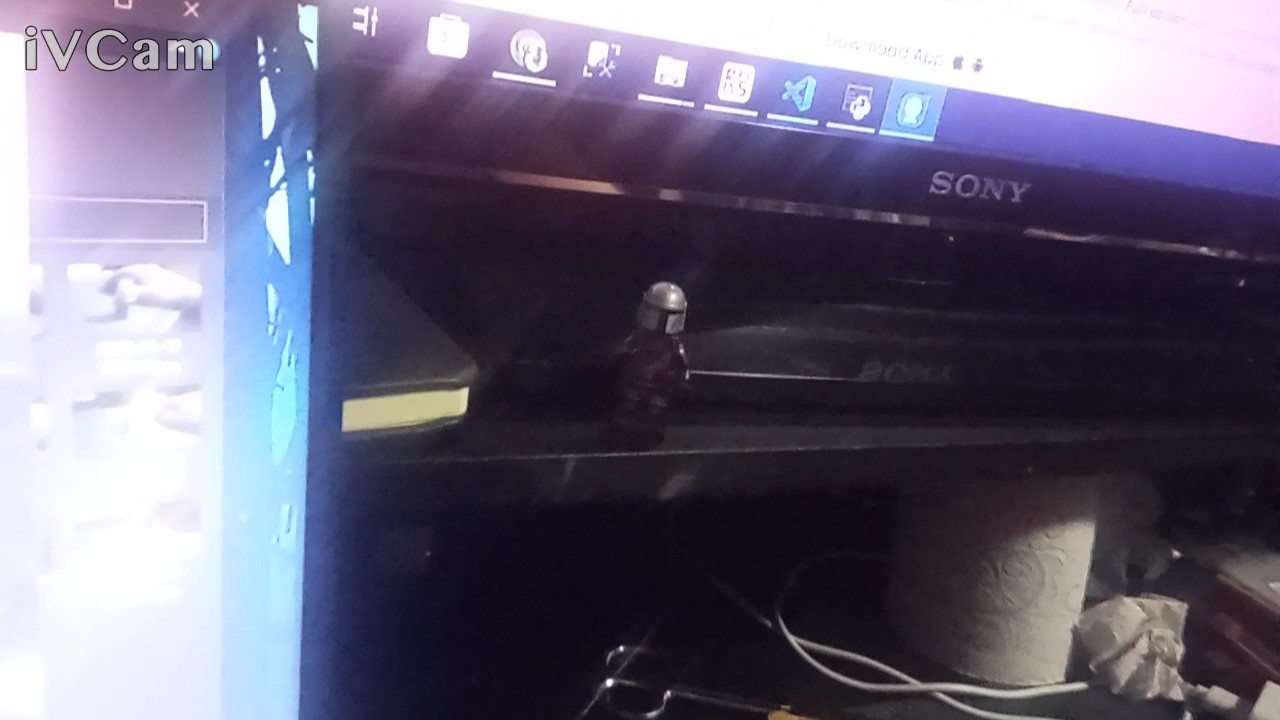mandalorian: (606, 271, 728, 468)
